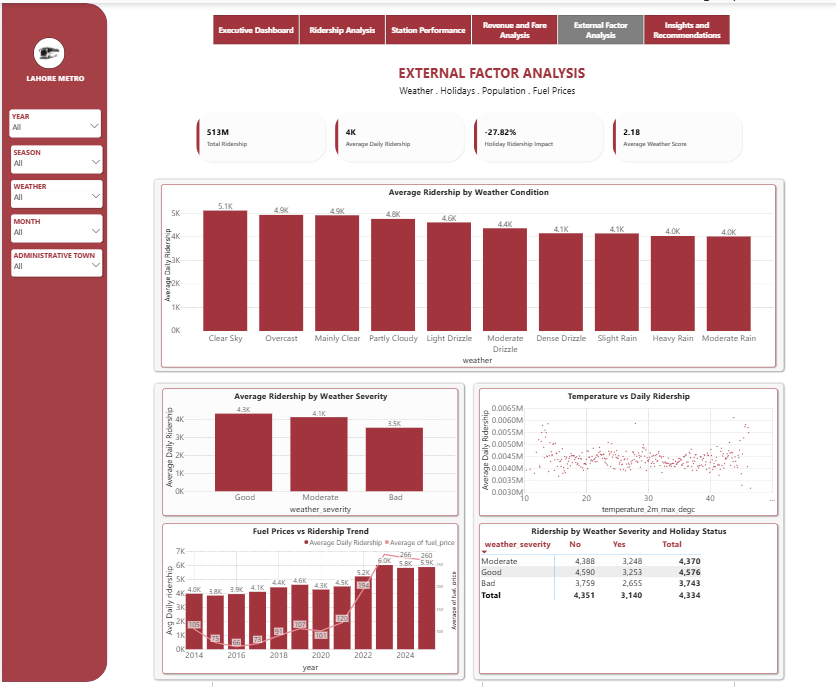

The dashboard page shown, as its layout file describes it:
{"tool":"powerbi","page":{"name":"External Factor Analysis","canvas":[8000,6500],"ordinal":4},"visuals":[{"type":"shape","box":[0,0,1010,6500],"z":0},{"type":"textbox","box":[225,660,610,174],"z":1000},{"type":"image","box":[305,325,300,300],"z":2000},{"type":"textbox","box":[3420,570,3120,450],"z":3000},{"type":"cardVisual","fields":{"Data":["lahore_metro_analysis ridership.Total Ridership","lahore_metro_analysis ridership.Average Daily Ridership","lahore_metro_analysis holidays.Holiday Ridership Difference %","lahore_metro_analysis ridership.Average Weather Score"]},"box":[1820,1010,5300,550],"z":4000},{"type":"pageNavigator","box":[2020,120,4940,280],"z":5000},{"type":"slicer","fields":{"Values":["lahore_metro_analysis ridership.year"]},"box":[65,1020,875,267.5],"z":6000},{"type":"slicer","fields":{"Values":["lahore_metro_analysis ridership.season"]},"box":[80,1360,875,267.5],"z":7000},{"type":"slicer","fields":{"Values":["lahore_metro_analysis ridership.month_name"]},"box":[80,2025,875,267.5],"z":8000},{"type":"slicer","fields":{"Values":["lahore_metro_analysis ridership.weather"]},"box":[80,1700,875,267.5],"z":9000},{"type":"slicer","fields":{"Values":["lahore_metro_analysis ridership.administrative_town"]},"box":[80,2357.5,875,267.5],"z":10000},{"type":"shape","box":[1432.6,1670,6070.8,1882.2],"z":11000},{"type":"clusteredColumnChart","title":"Average Ridership by Weather Condition","fields":{"Category":["lahore_metro_analysis ridership.weather"],"Y":["lahore_metro_analysis ridership.Average Daily Ridership"]},"box":[1525.4,1736.3,5885.3,1749.7],"z":12000},{"type":"shape","box":[1430,3620,3010,2880],"z":13000},{"type":"shape","box":[4490,3620,3010,2880],"z":14000},{"type":"clusteredColumnChart","title":"Average Ridership by Weather Severity","fields":{"Y":["lahore_metro_analysis ridership.Average Daily Ridership"],"Category":["lahore_metro_analysis ridership.weather_severity"]},"box":[1530,3690,2830,1220],"z":15000},{"type":"scatterChart","title":"Temperature vs Daily Ridership","fields":{"X":["lahore_metro_analysis weather.temperature_2m_max_degc"],"Y":["lahore_metro_analysis ridership.Average Daily Ridership"]},"box":[4560,3690,2860,1220],"z":16000},{"type":"lineClusteredColumnComboChart","title":"Fuel Prices vs Ridership Trend","fields":{"Category":["lahore_metro_analysis ridership.year"],"Y":["lahore_metro_analysis ridership.Average Daily Ridership"],"Y2":["Avg(lahore_metro_analysis ridership.fuel_price)"]},"box":[1530,4980,2830,1440],"z":17000},{"type":"pivotTable","title":"Ridership by Weather Severity and Holiday Status","fields":{"Values":["lahore_metro_analysis ridership.Average Daily Ridership"],"Rows":["lahore_metro_analysis ridership.weather_severity"],"Columns":["lahore_metro_analysis ridership.holiday"]},"box":[4560,4980,2860,1440],"z":18000}]}

Visuals, with their boxes in screenshot pixels (x1, y1, x2, y2), scaled from the page's 8000x6500 canvas onto the 836x687 screenshot:
shape: pyautogui.locateOnScreen(0, 0, 106, 686)
textbox: pyautogui.locateOnScreen(24, 70, 87, 88)
image: pyautogui.locateOnScreen(32, 34, 63, 66)
textbox: pyautogui.locateOnScreen(357, 60, 683, 108)
cardVisual - lahore_metro_analysis ridership.Total Ridership x lahore_metro_analysis ridership.Average Daily Ridership: pyautogui.locateOnScreen(190, 107, 744, 165)
pageNavigator: pyautogui.locateOnScreen(211, 13, 727, 42)
slicer - lahore_metro_analysis ridership.year: pyautogui.locateOnScreen(7, 108, 98, 136)
slicer - lahore_metro_analysis ridership.season: pyautogui.locateOnScreen(8, 144, 100, 172)
slicer - lahore_metro_analysis ridership.month_name: pyautogui.locateOnScreen(8, 214, 100, 242)
slicer - lahore_metro_analysis ridership.weather: pyautogui.locateOnScreen(8, 180, 100, 208)
slicer - lahore_metro_analysis ridership.administrative_town: pyautogui.locateOnScreen(8, 249, 100, 277)
shape: pyautogui.locateOnScreen(150, 177, 784, 375)
"Average Ridership by Weather Condition" clusteredColumnChart: pyautogui.locateOnScreen(159, 184, 774, 368)
shape: pyautogui.locateOnScreen(149, 383, 464, 686)
shape: pyautogui.locateOnScreen(469, 383, 784, 686)
"Average Ridership by Weather Severity" clusteredColumnChart: pyautogui.locateOnScreen(160, 390, 456, 519)
"Temperature vs Daily Ridership" scatterChart: pyautogui.locateOnScreen(477, 390, 775, 519)
"Fuel Prices vs Ridership Trend" lineClusteredColumnComboChart: pyautogui.locateOnScreen(160, 526, 456, 679)
"Ridership by Weather Severity and Holiday Status" pivotTable: pyautogui.locateOnScreen(477, 526, 775, 679)
